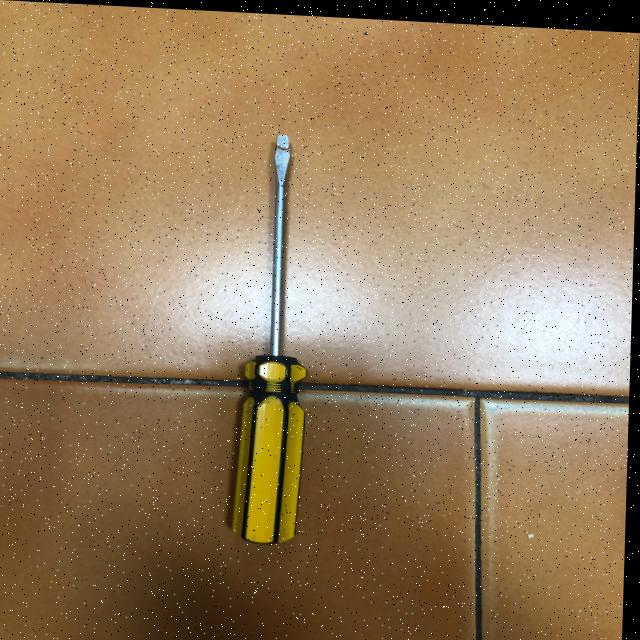Screwdriver: (236, 132, 308, 541)
